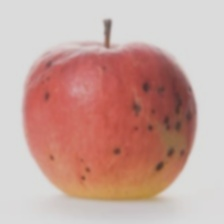apple: (2, 4, 185, 194)
